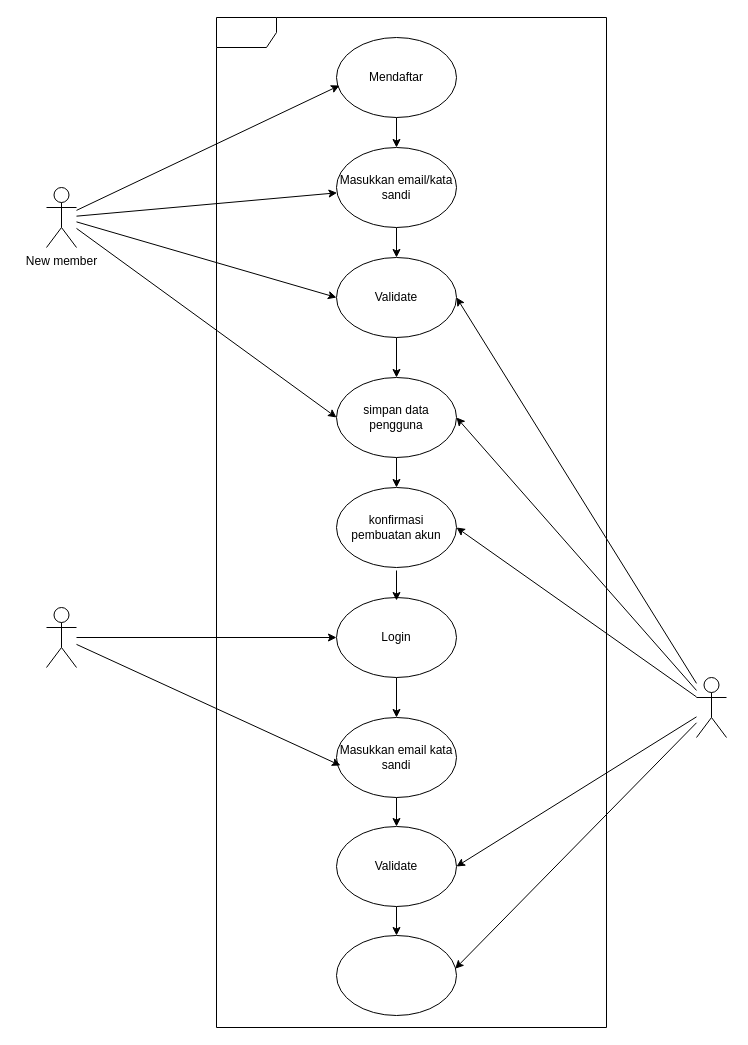
Image size: 748x1045. Some labels were removed from this diagram. The box of each missing label's shape, as (x1, y1, x2, y2) in pixels:
existing member: (46, 606, 76, 668)
memberikan akses ke dasbor pengguna: (336, 934, 456, 1016)
System: (696, 676, 726, 738)
use case login: (216, 16, 606, 1028)
